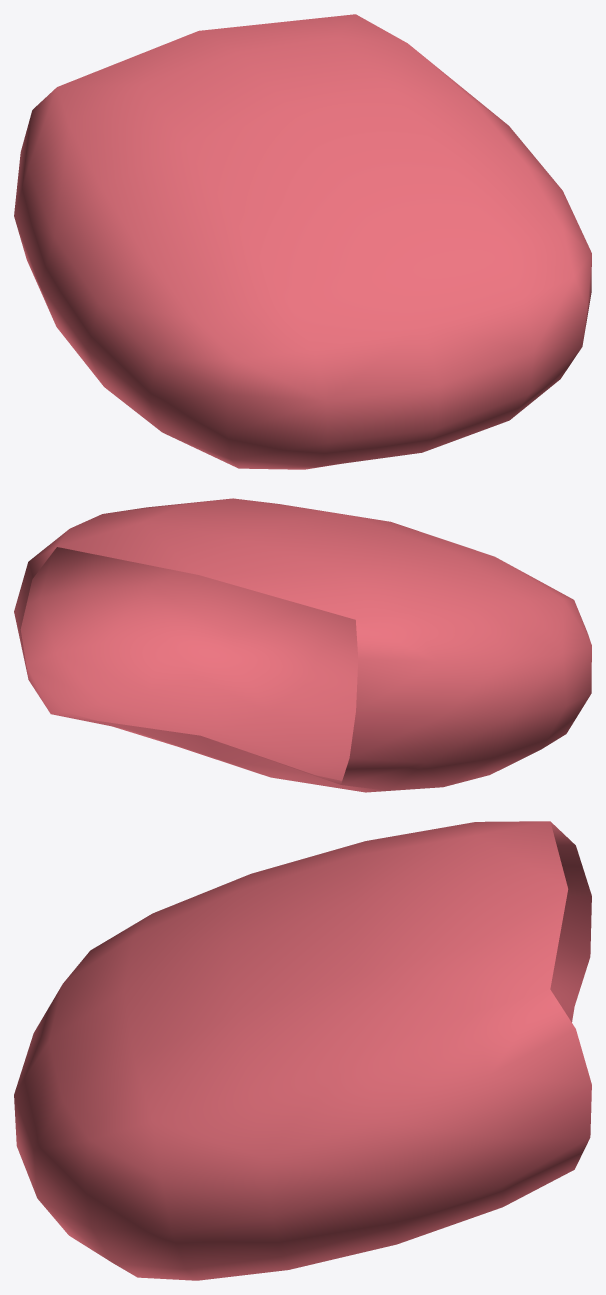
The model's file is tongue.obj.
3 renders of one model, top to bottom at view 1: azimuth 30°, elevation 25°; view 2: azimuth 150°, elevation 25°; view 3: azimuth 270°, elevation 25°, orthographic. The views are drawn at different scales.
Parts seen in each view (by area): view 1: tongue Jake; view 2: tongue Jake; view 3: tongue Jake.
Part boxes in pixels (x1,y1,x2,y2): tongue Jake: (14,14,591,469); tongue Jake: (14,498,591,792); tongue Jake: (14,821,591,1280).
Bounding box in the file's own units: 0.6672 × 0.3884 × 0.6042.
